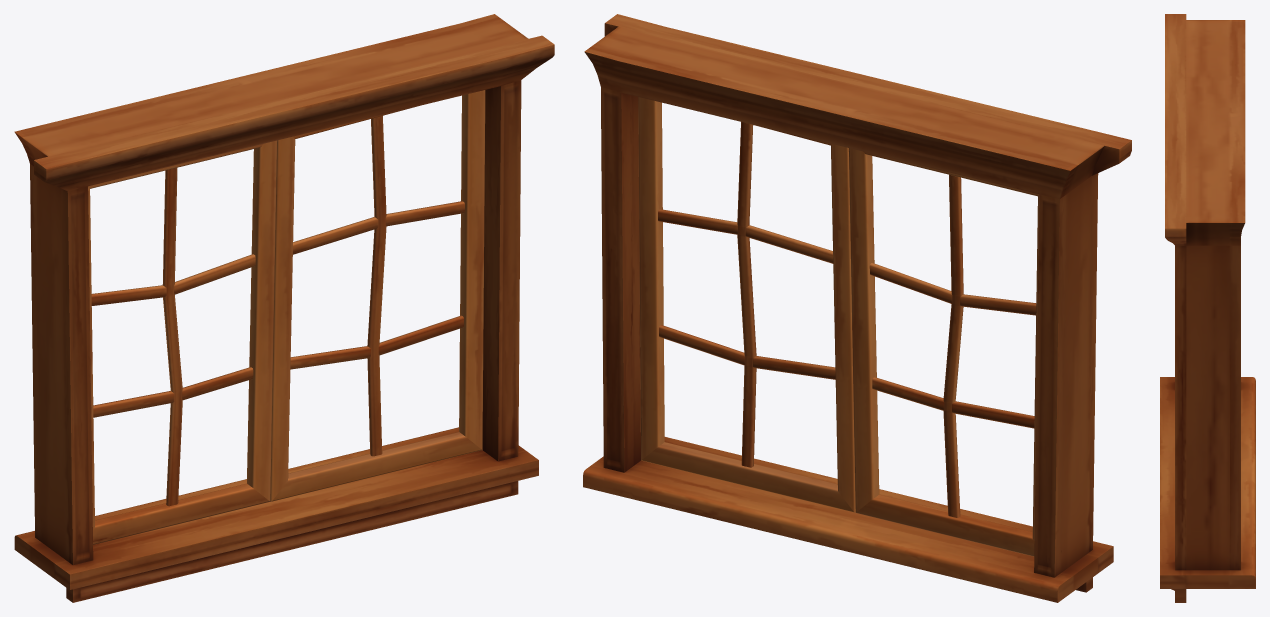
The model's file is PropWindow01TypeB_2_2.FBX.
3 views of the same model, side by side, from view 1: azimuth 30°, elevation 25°; view 2: azimuth 150°, elevation 25°; view 3: azimuth 270°, elevation 25° (orthographic). The views are drawn at different scales.
Visible parts, largest first — view 1: PropWindow01TypeB_2_2; view 2: PropWindow01TypeB_2_2; view 3: PropWindow01TypeB_2_2.
Boxes of the visible parts, x1,y1,x2,y2 form: PropWindow01TypeB_2_2: [14, 14, 554, 602]; PropWindow01TypeB_2_2: [583, 14, 1131, 602]; PropWindow01TypeB_2_2: [1160, 14, 1255, 602].
Size of what is drawn, in the model's own units: 2.36 by 1.98 by 0.4449.
